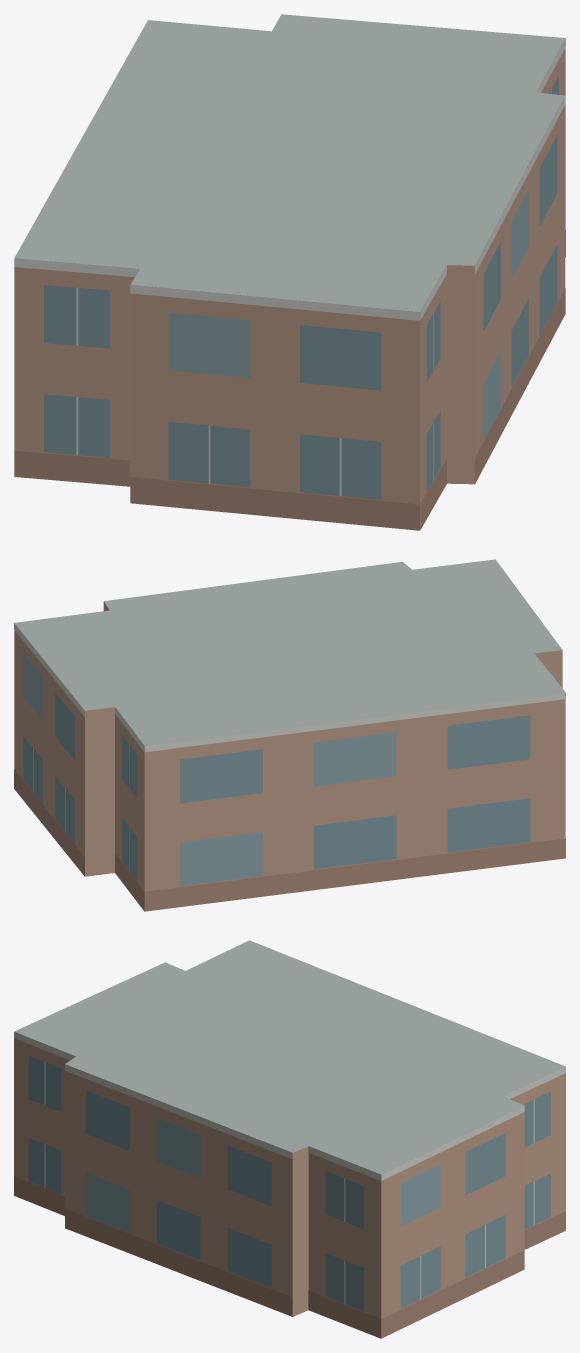
The model's file is survey-upis-32883329.glb.
3 renders of one model, top to bottom at view 1: azimuth 30°, elevation 25°; view 2: azimuth 150°, elevation 25°; view 3: azimuth 270°, elevation 25°, orthographic. The views are drawn at different scales.
Visible parts, largest first — view 1: survey-upis-32883329.tmp; view 2: survey-upis-32883329.tmp; view 3: survey-upis-32883329.tmp.
Boxes of the visible parts, x1,y1,x2,y2 form: survey-upis-32883329.tmp: (14, 14, 565, 530); survey-upis-32883329.tmp: (14, 559, 565, 911); survey-upis-32883329.tmp: (14, 940, 565, 1338).
Bounding box in the file's own units: 18.68 × 6.1 × 18.59.
